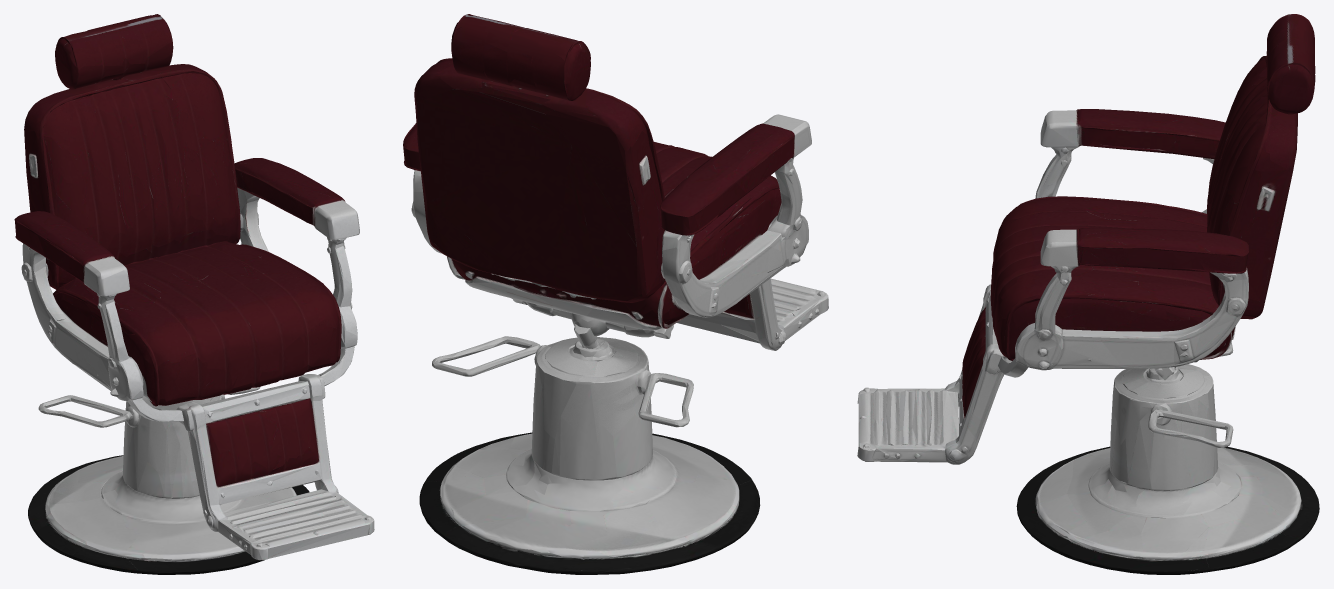
The model's file is barber-chair.glb.
The picture shows the model from 3 angles, left to right: view 1: azimuth 30°, elevation 25°; view 2: azimuth 150°, elevation 25°; view 3: azimuth 270°, elevation 25°; orthographic projection. The views are drawn at different scales.
Visible parts, largest first — view 1: Mesh_0; view 2: Mesh_0; view 3: Mesh_0.
Part boxes in pixels (<box>): Mesh_0: <box>14,14,374,574</box>; Mesh_0: <box>403,14,828,574</box>; Mesh_0: <box>857,14,1319,574</box>.
Size of the model in its own units: 1.18 by 1.9 by 1.68.
Materials: 1 (1 with a texture image).
